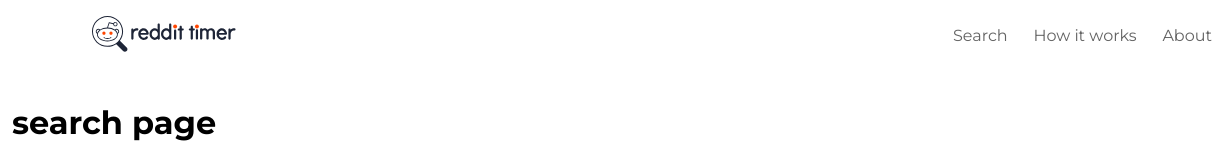
Scenario: navigates to "How it works" section when "How it works" link is clicked
Click the link "How it works". click: (1085, 34)
box: [1033,26,1137,44]
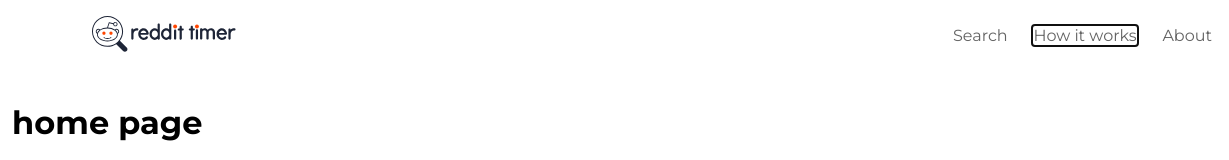
expect the heading "home page" is shown: met, box [12,103,202,142]
